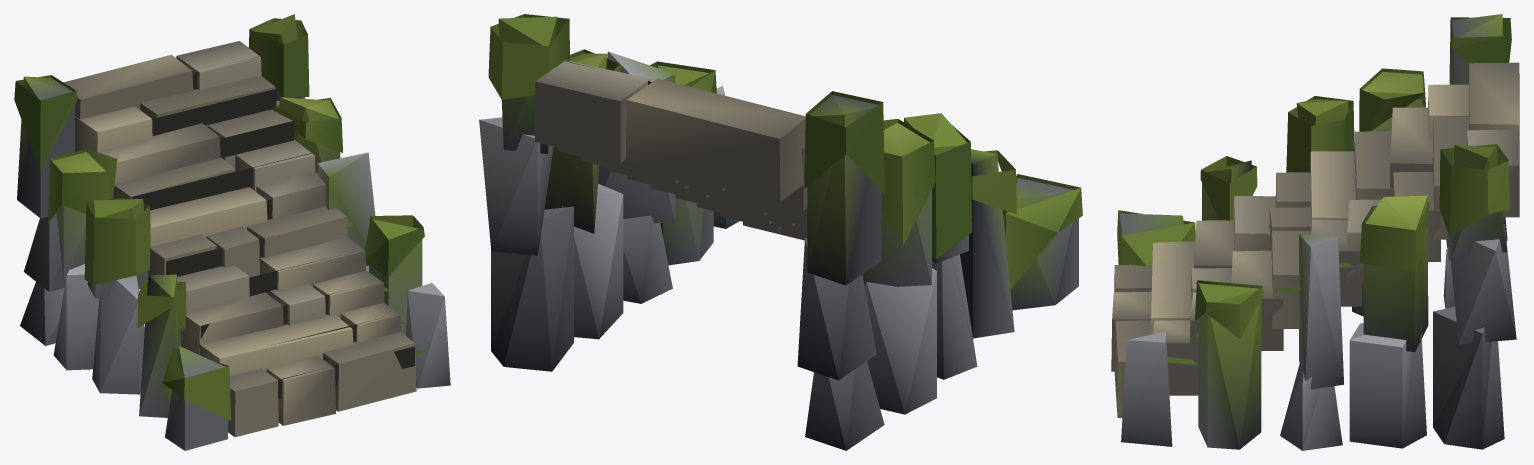
File: wf_stone_steps-lod1.glb
The picture shows the model from 3 angles, left to right: view 1: azimuth 30°, elevation 25°; view 2: azimuth 150°, elevation 25°; view 3: azimuth 270°, elevation 25°; orthographic projection. The views are drawn at different scales.
Visible parts, largest first — view 1: wf_stone_steps; view 2: wf_stone_steps; view 3: wf_stone_steps.
Part boxes in pixels (x1,y1,x2,y2): wf_stone_steps: [14, 14, 450, 450]; wf_stone_steps: [479, 14, 1082, 450]; wf_stone_steps: [1111, 14, 1519, 450].
Bounding box in the file's own units: 3.89 × 3.22 × 4.15.
